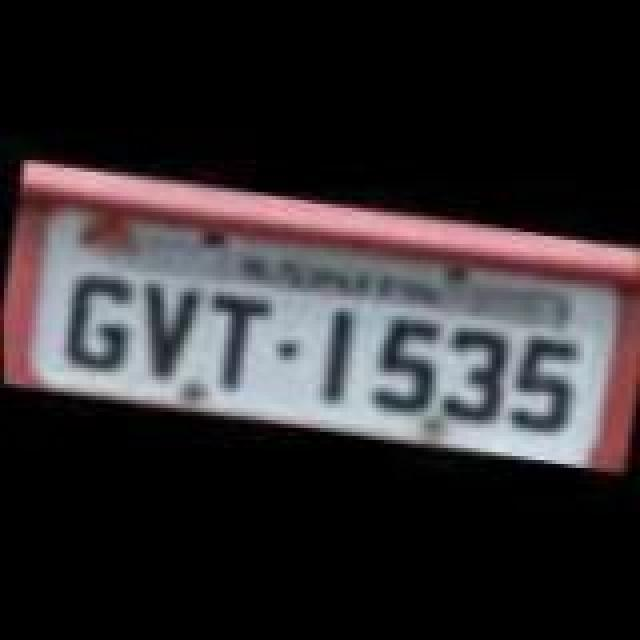1: (314, 300, 362, 404)
3: (436, 326, 516, 426)
5: (500, 336, 580, 444), (364, 310, 440, 422)
G: (56, 266, 140, 378)
T: (194, 292, 274, 396)
V: (126, 278, 206, 386)
